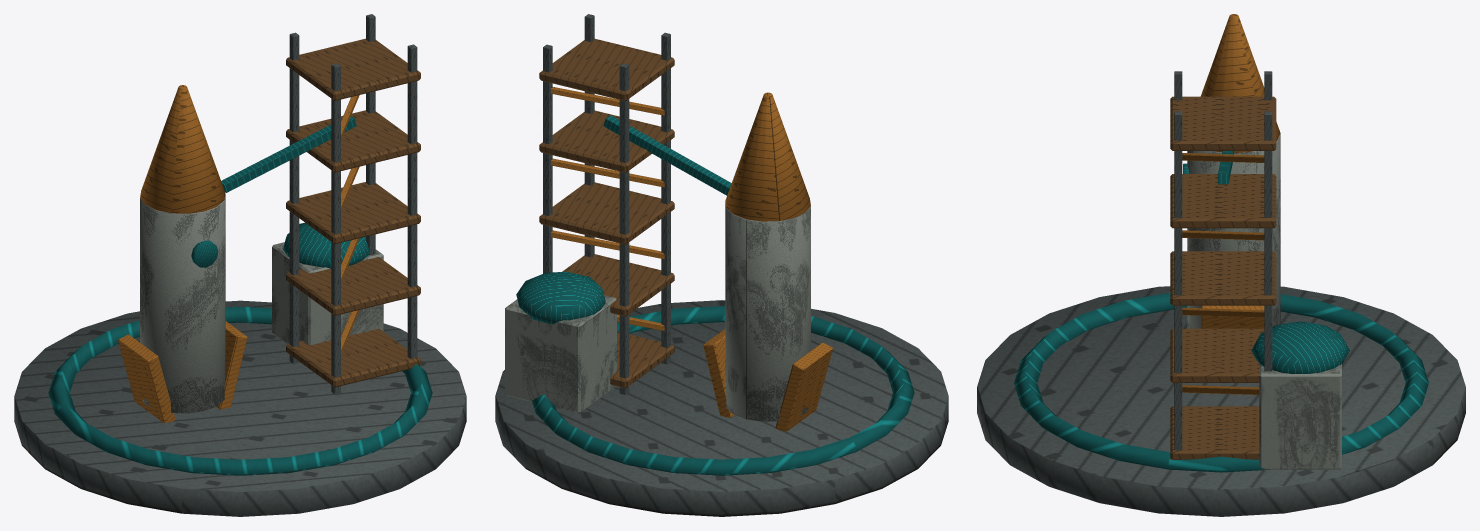
File: launch-works.glb
3 views of the same model, side by side, from view 1: azimuth 30°, elevation 25°; view 2: azimuth 150°, elevation 25°; view 3: azimuth 270°, elevation 25° (orthographic). The views are drawn at different scales.
Parts seen in each view (by area): view 1: launch-works; view 2: launch-works; view 3: launch-works.
Part boxes in pixels (bbox=[...]): launch-works: bbox=[14, 14, 466, 516]; launch-works: bbox=[495, 14, 948, 516]; launch-works: bbox=[977, 14, 1465, 516].
Size of the model in its own units: 5.44 by 4.68 by 5.44.
1 material, 1 textured.
